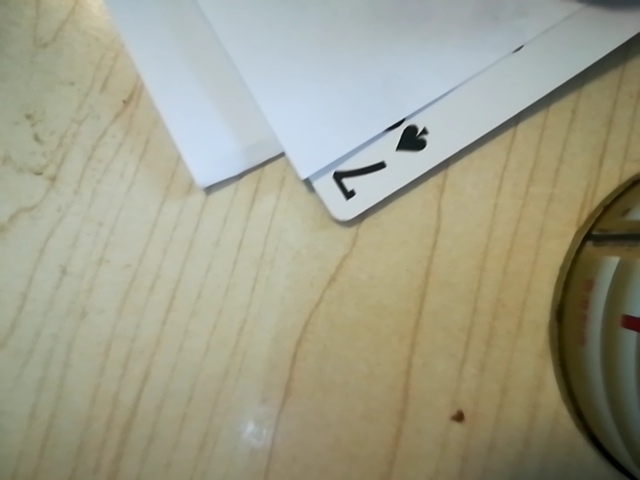ht 7: (314, 111, 448, 218)
